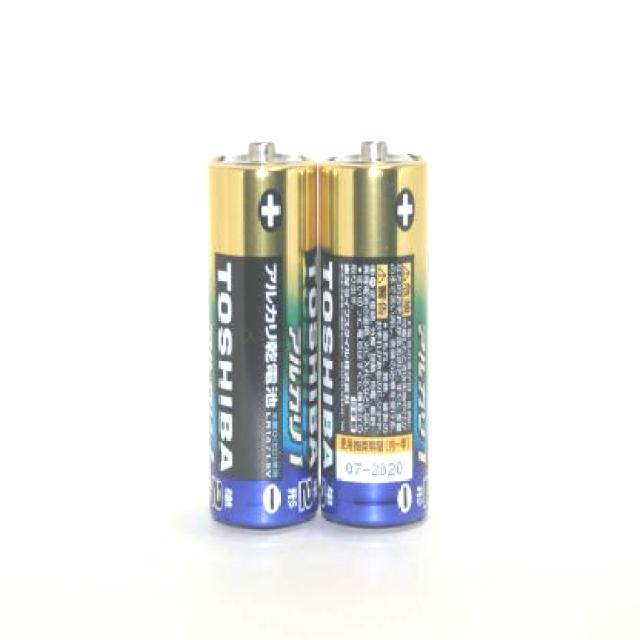AA: (202, 134, 322, 536), (316, 138, 436, 538)
